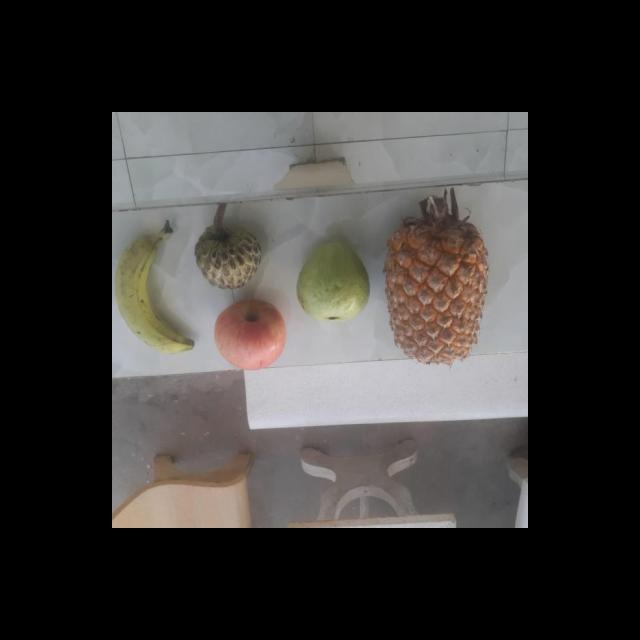Sakya fruit: (194, 215, 264, 289)
apple: (211, 299, 289, 370)
banana: (117, 226, 199, 352)
guava: (300, 242, 374, 322)
pineapple: (386, 215, 490, 364)
